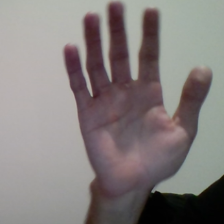left: (48, 2, 221, 199)
